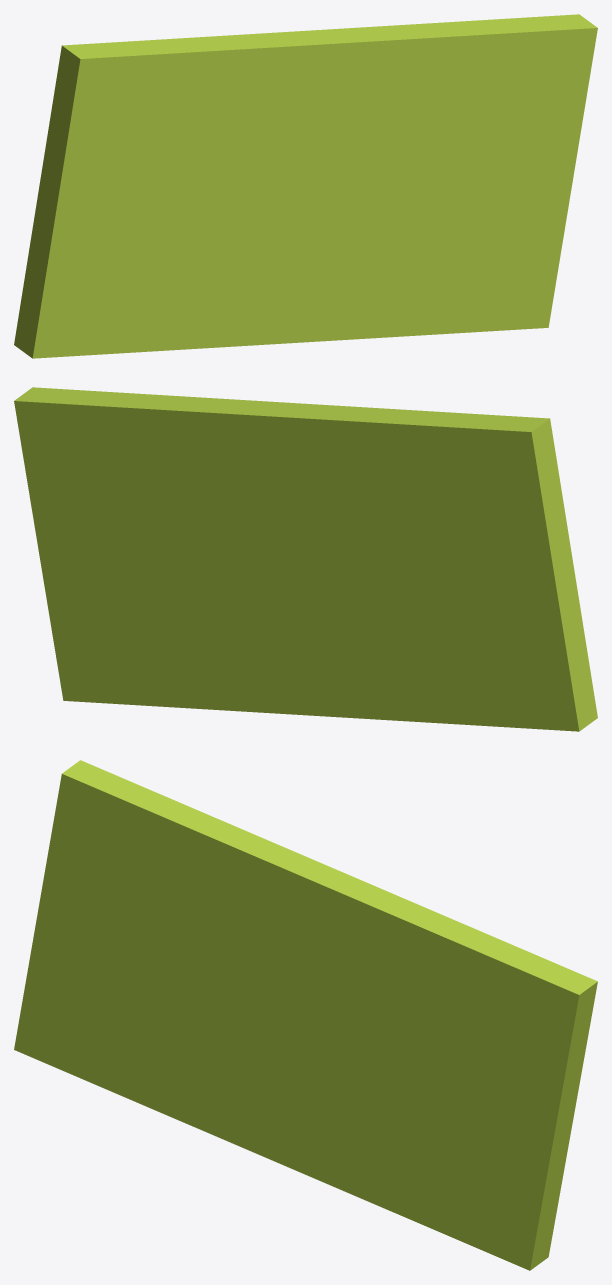
3 renders of one model, top to bottom at view 1: azimuth 30°, elevation 25°; view 2: azimuth 150°, elevation 25°; view 3: azimuth 330°, elevation 25°, orthographic.
Visible parts, largest first — view 1: osm-way27917482-F-1; view 2: osm-way27917482-F-1; view 3: osm-way27917482-F-1.
Boxes of the visible parts, left/top/right/bottom form: osm-way27917482-F-1: left=14, top=14, right=597, bottom=358; osm-way27917482-F-1: left=14, top=387, right=597, bottom=731; osm-way27917482-F-1: left=14, top=760, right=597, bottom=1270.
Bounding box in the file's own units: 2.63 × 1.7 × 0.15.
